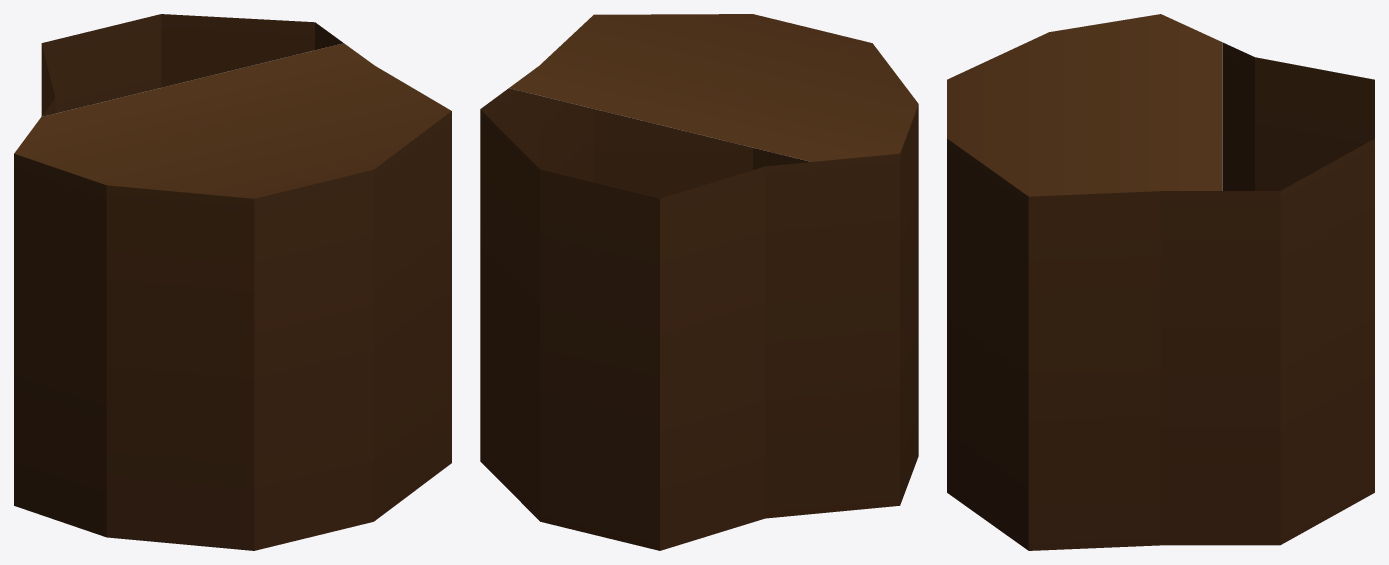
Rendered from petit_ilot.fbx.
3 renders of one model, left to right at view 1: azimuth 30°, elevation 25°; view 2: azimuth 150°, elevation 25°; view 3: azimuth 270°, elevation 25°, orthographic.
Parts seen in each view (by area): view 1: pCylinder8; view 2: pCylinder8; view 3: pCylinder8.
Boxes of the visible parts, bbox=[...] form: pCylinder8: bbox=[14, 14, 451, 550]; pCylinder8: bbox=[480, 14, 918, 550]; pCylinder8: bbox=[947, 14, 1374, 550].
Bounding box in the file's own units: 1.06 × 0.9575 × 1.05.
1 material, 1 textured.
